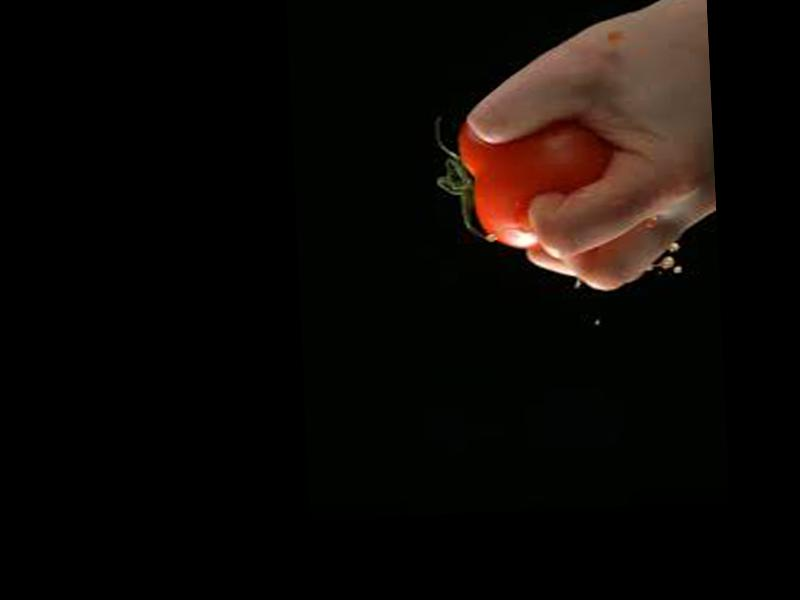Tomato: (457, 114, 615, 250)
